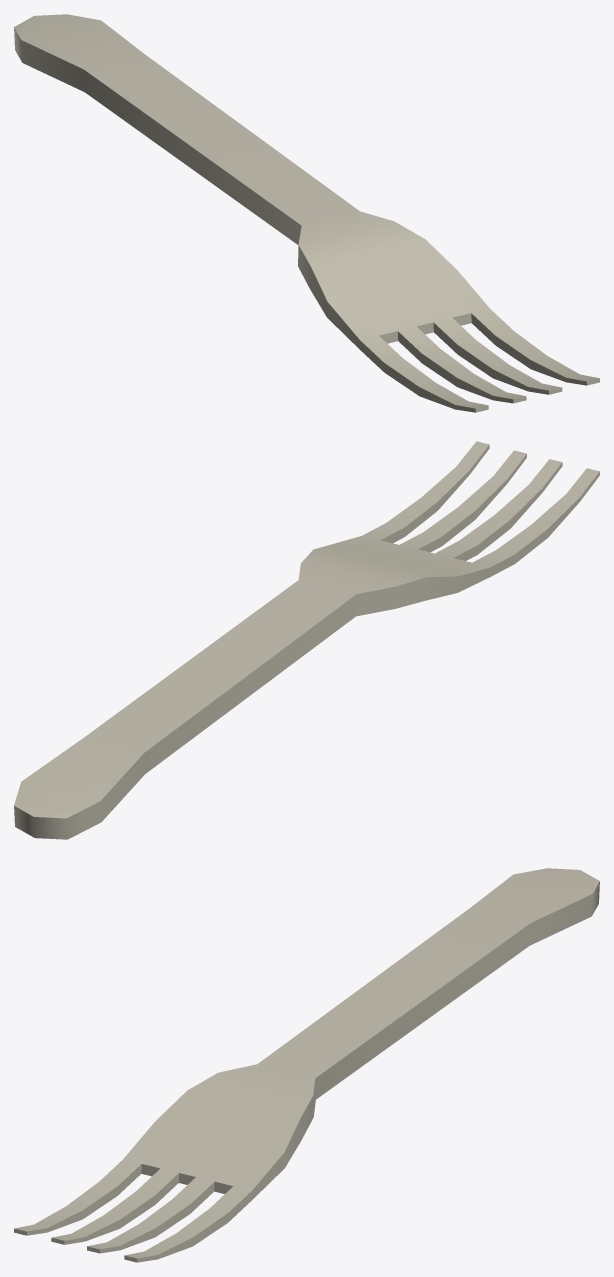
Rendered from Fork_01.fbx.
3 renders of one model, top to bottom at view 1: azimuth 30°, elevation 25°; view 2: azimuth 150°, elevation 25°; view 3: azimuth 330°, elevation 25°, orthographic.
Parts seen in each view (by area): view 1: Fork_01; view 2: Fork_01; view 3: Fork_01.
Part boxes in pixels (x1=…): Fork_01: x1=14, y1=14, x2=599, y2=412; Fork_01: x1=14, y1=441, x2=599, y2=839; Fork_01: x1=14, y1=868, x2=599, y2=1262.
Size of the model in its own units: 0.0302 by 0.0109 by 0.2041.
